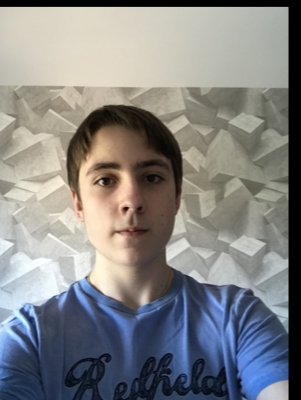without_mask: (82, 157, 179, 267)
